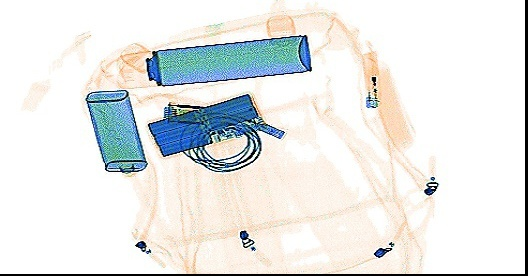lighter: (357, 46, 380, 108)
powerbank: (143, 88, 267, 157)
pressure: (115, 30, 312, 86)
zippooil: (85, 88, 147, 177)
